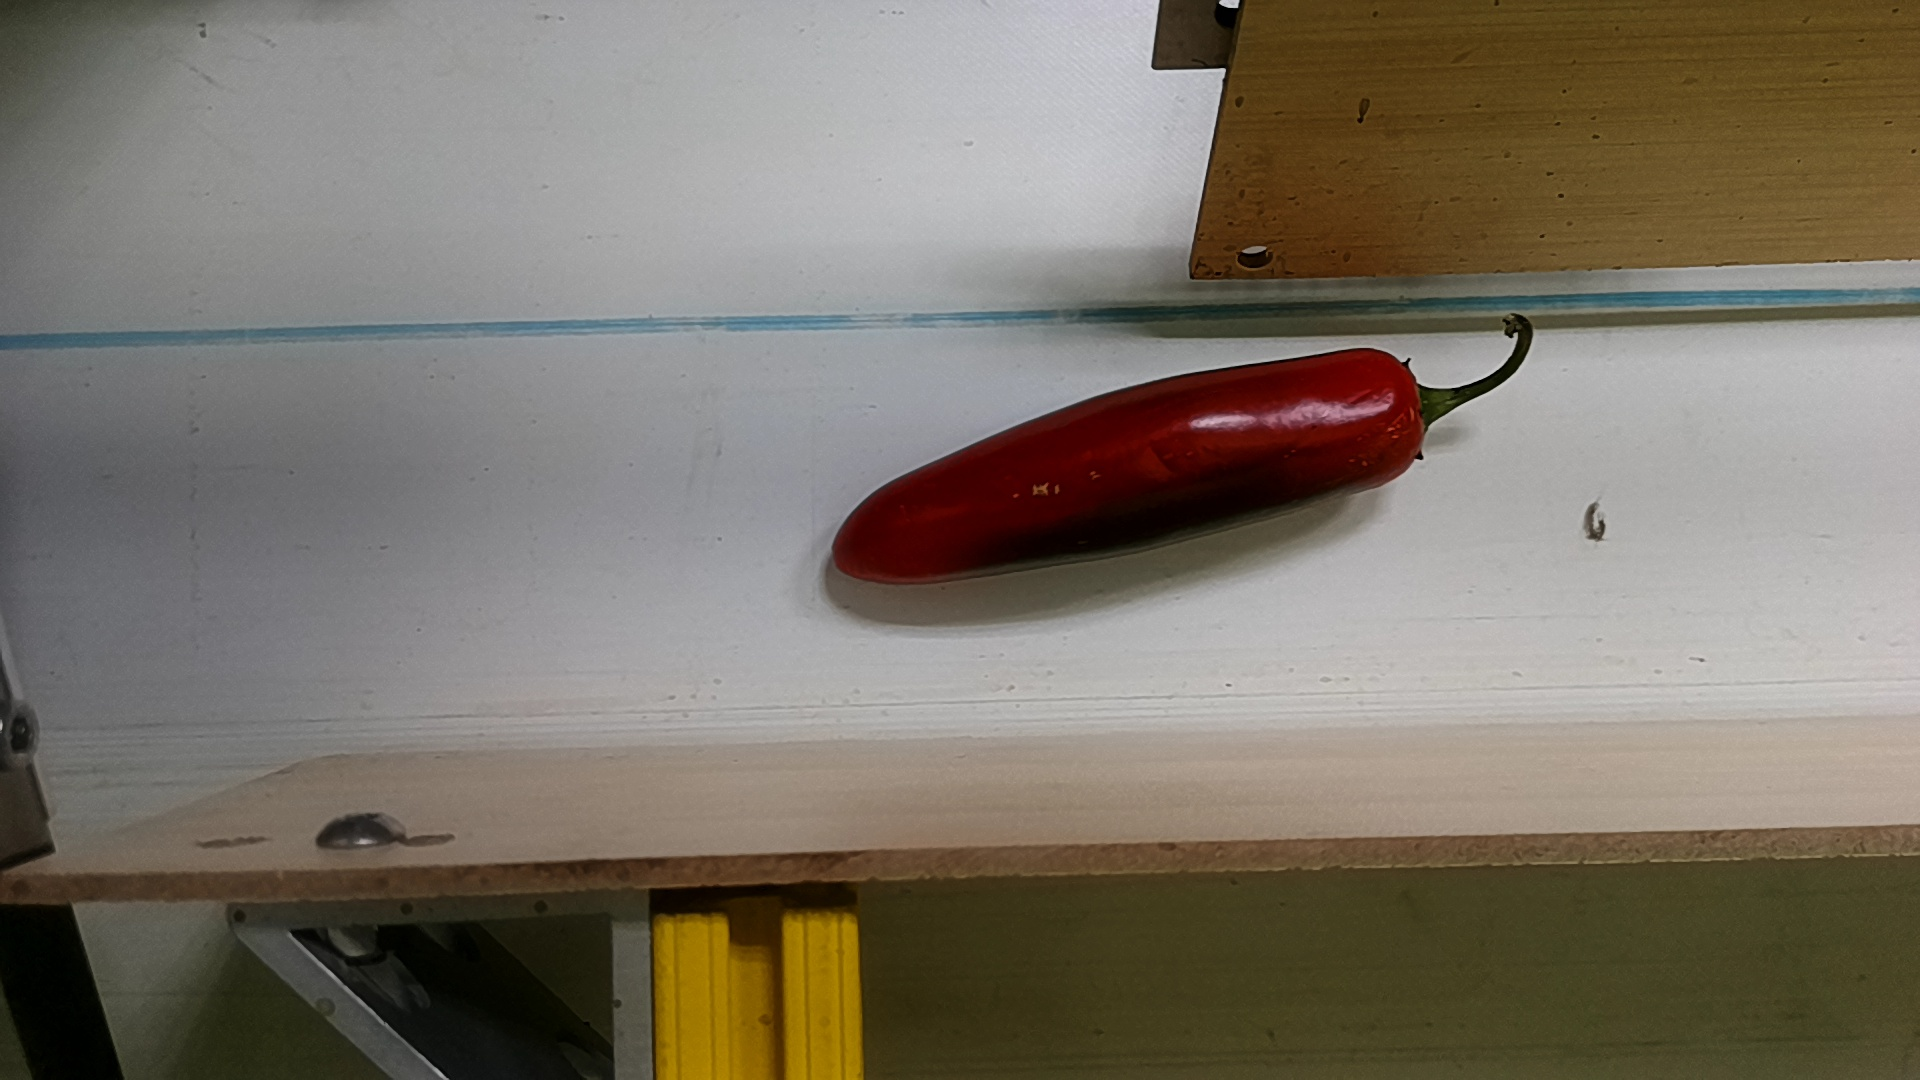Cut Point: (1364, 335, 1455, 481)
